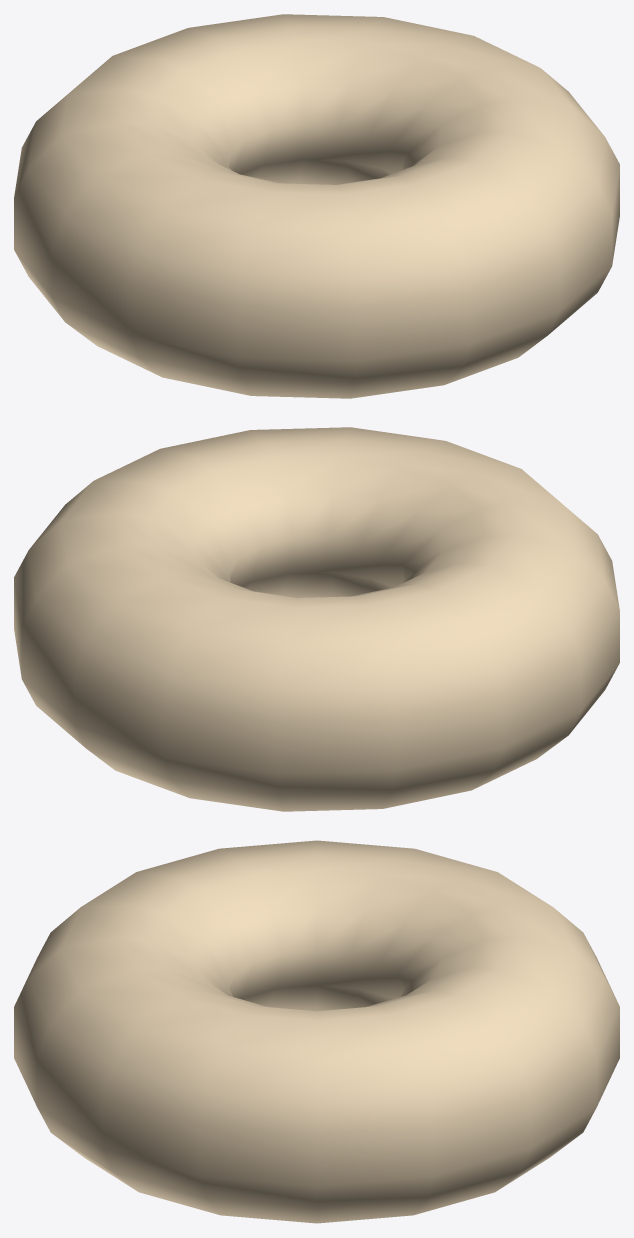
Rendered from Cushion.fbx.
3 views of the same model, one above another, from view 1: azimuth 30°, elevation 25°; view 2: azimuth 150°, elevation 25°; view 3: azimuth 270°, elevation 25° (orthographic).
Visible parts, largest first — view 1: Cushion; view 2: Cushion; view 3: Cushion.
Boxes of the visible parts, left/top/right/bottom form: Cushion: left=14, top=14, right=619, bottom=398; Cushion: left=14, top=427, right=619, bottom=811; Cushion: left=14, top=840, right=619, bottom=1223.
Size of the model in its own units: 4.41 by 1.49 by 4.41.
